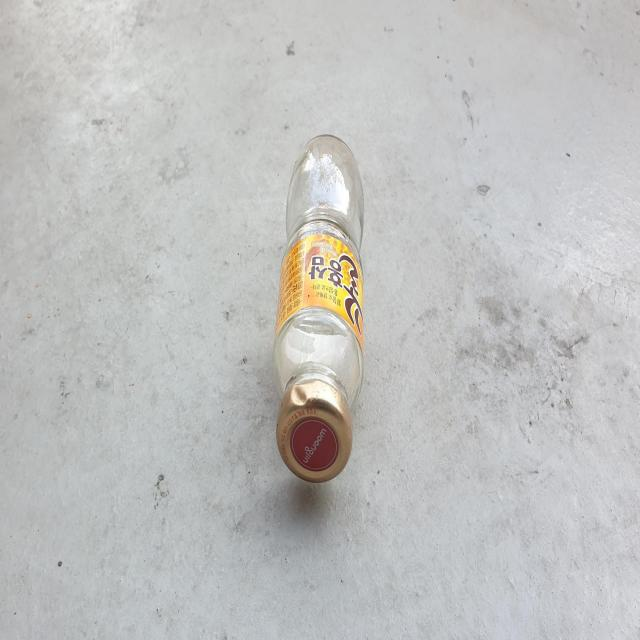glass: (273, 133, 364, 482)
